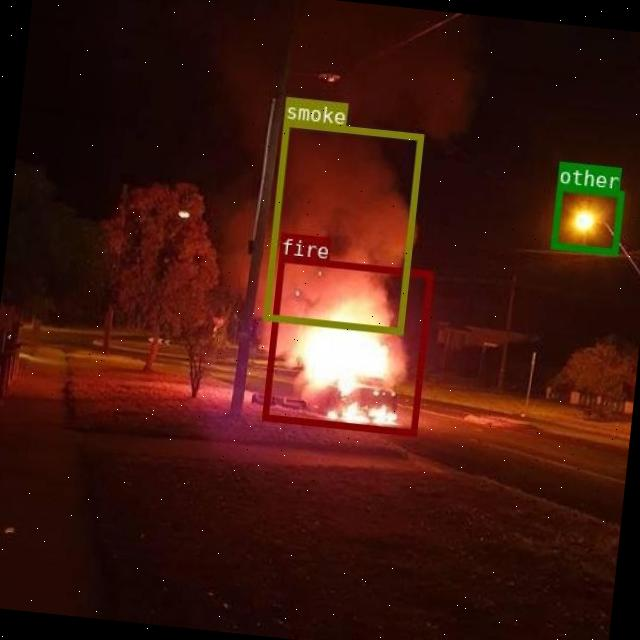fire: (261, 254, 432, 436)
smoke: (262, 119, 422, 333)
